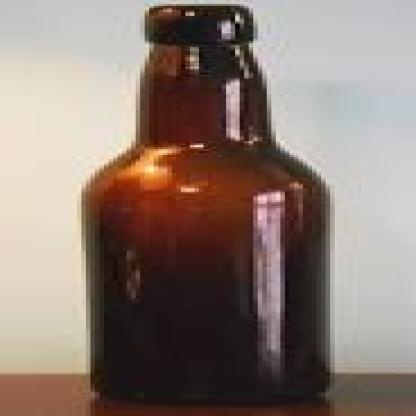trash: (85, 5, 329, 415)
